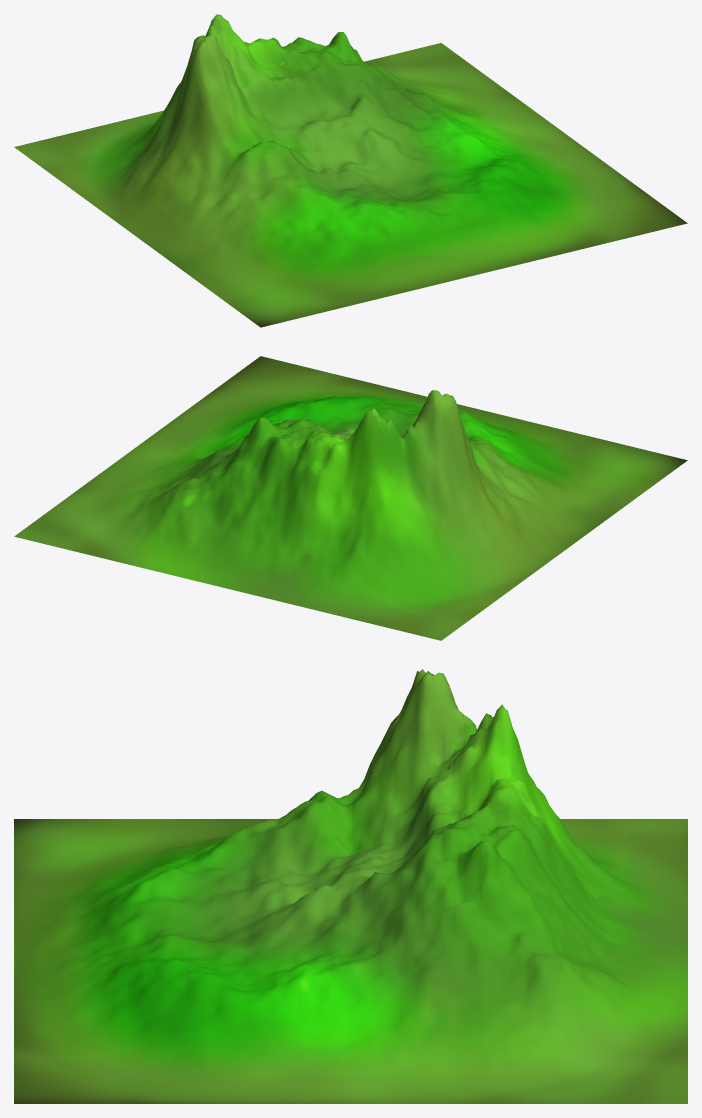
Rendered from ThirdIsland.fbx.
The picture shows the model from 3 angles, top to bottom: view 1: azimuth 30°, elevation 25°; view 2: azimuth 150°, elevation 25°; view 3: azimuth 270°, elevation 25°; orthographic projection. The views are drawn at different scales.
Parts seen in each view (by area): view 1: Landscape.001; view 2: Landscape.001; view 3: Landscape.001.
Part boxes in pixels (box(x1,y1,x2,y2)): Landscape.001: box(14, 14, 687, 327); Landscape.001: box(14, 356, 687, 640); Landscape.001: box(14, 669, 687, 1103).
Size of the model in its own units: 8815 by 3085 by 8815.
